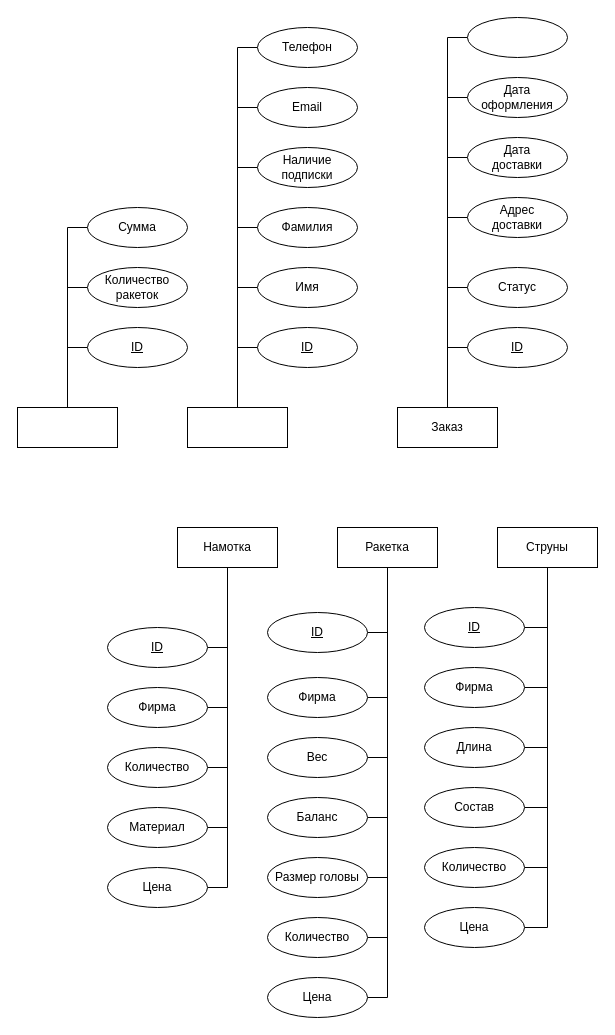
Image size: 615x1035. Some labels were removed from this diagram. The shapes that lost their labels are listed below. From the top down, each one's box as (x1, y1, x2, y2) in pixels, then its label:
(466, 16, 568, 58): Сумма заказа
(16, 406, 118, 448): Корзина
(186, 406, 288, 448): Пользователь
